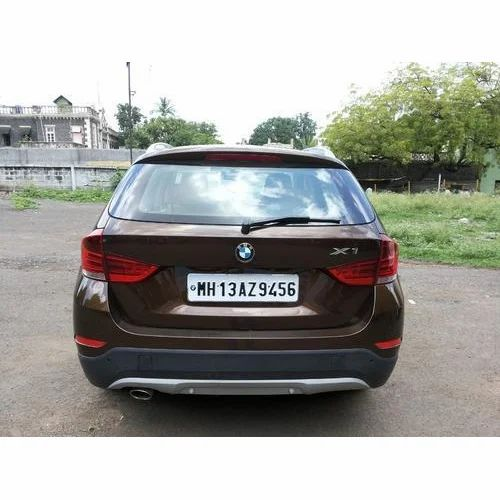number_plate: (187, 274, 299, 302)
